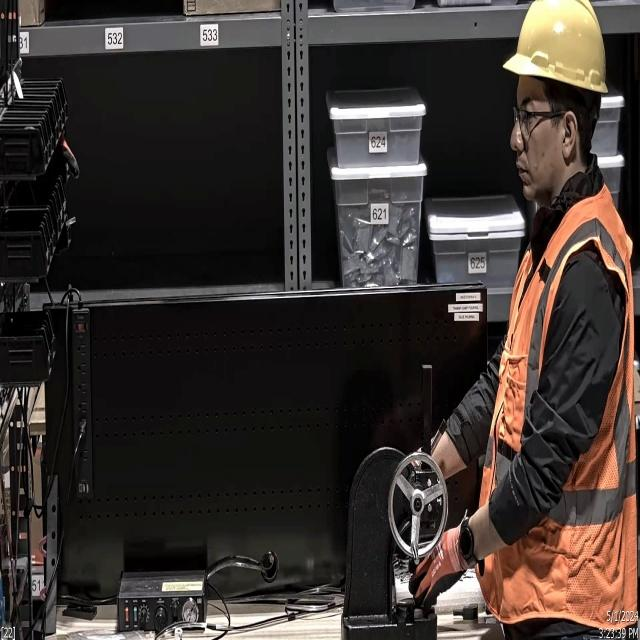construction-gloves: (408, 522, 462, 620)
